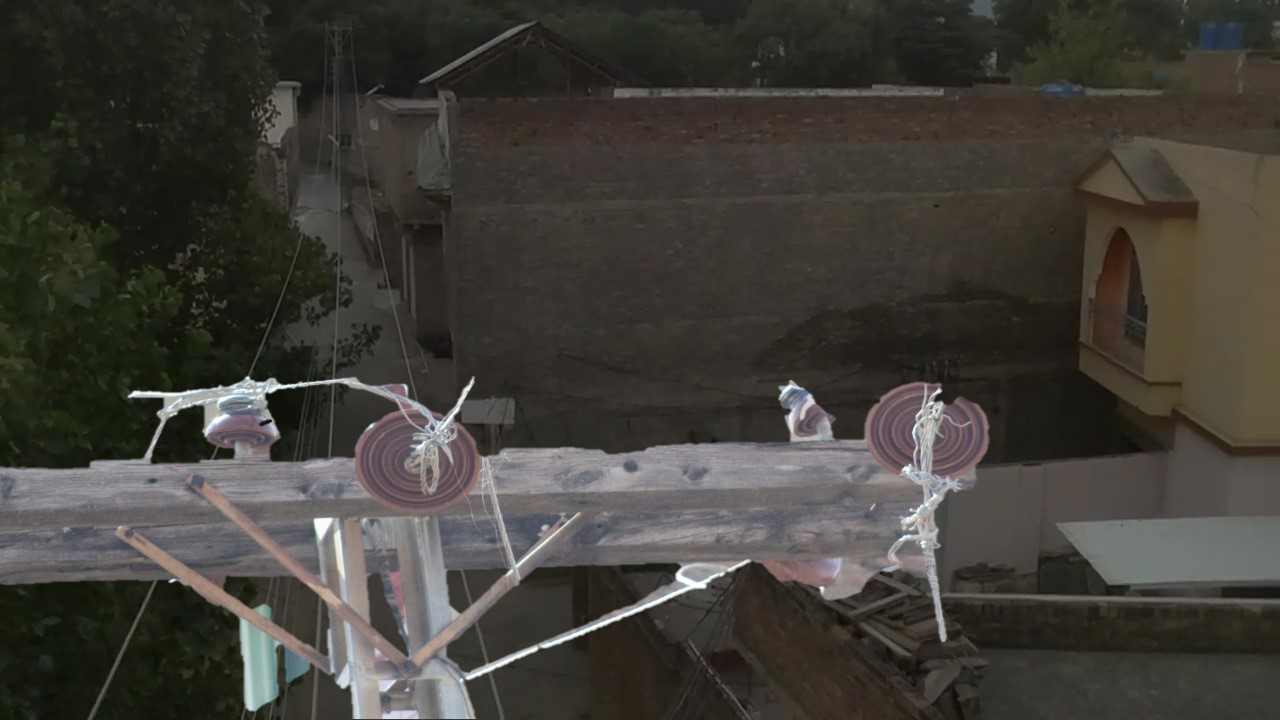defect_pin: (774, 370, 840, 449)
insulator_disc: (349, 397, 486, 515), (859, 374, 995, 484)
insulator_pin: (193, 376, 284, 453)
